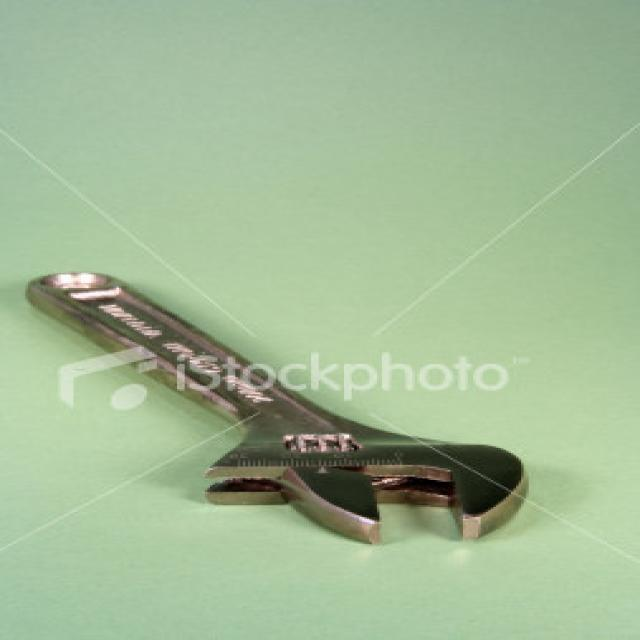wrench: (23, 246, 530, 560)
